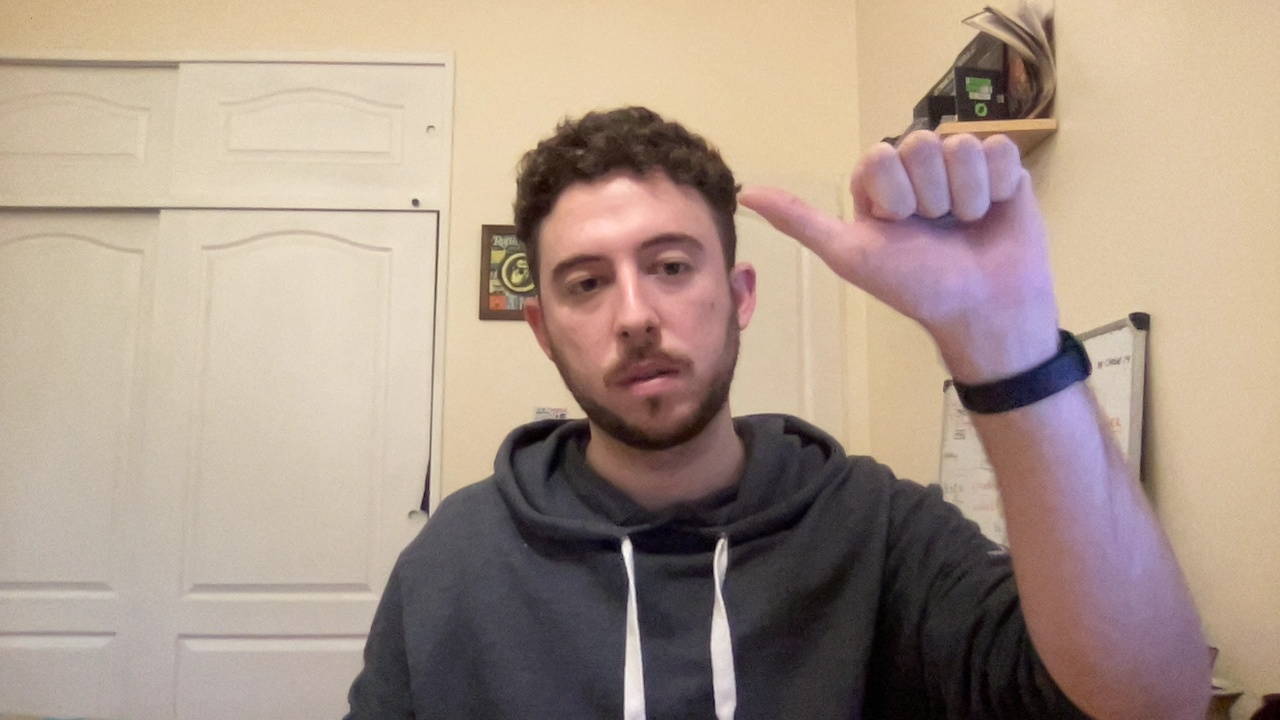pulgar: (720, 104, 1105, 394)
